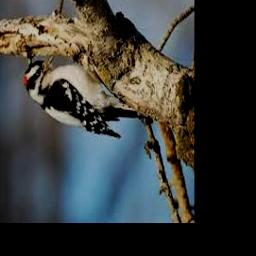Woodpecker: (25, 54, 153, 137)
